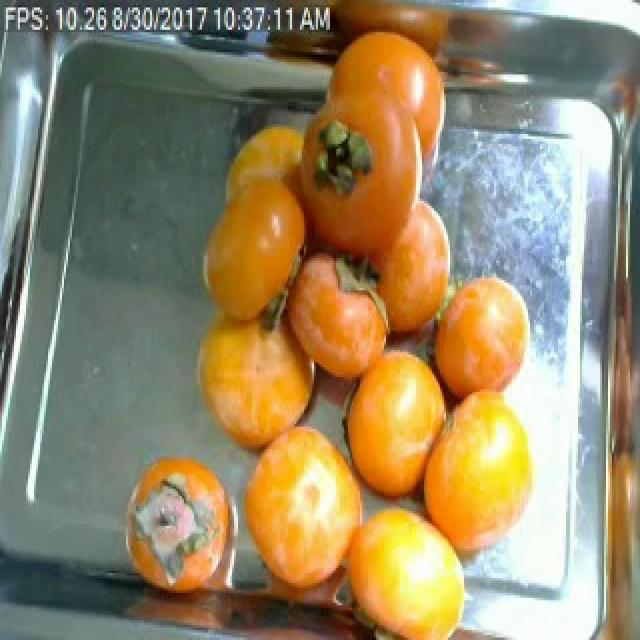Fruit: (202, 106, 342, 308), (406, 380, 550, 576), (180, 298, 332, 469), (310, 18, 440, 214), (326, 493, 484, 640), (424, 260, 542, 420)
